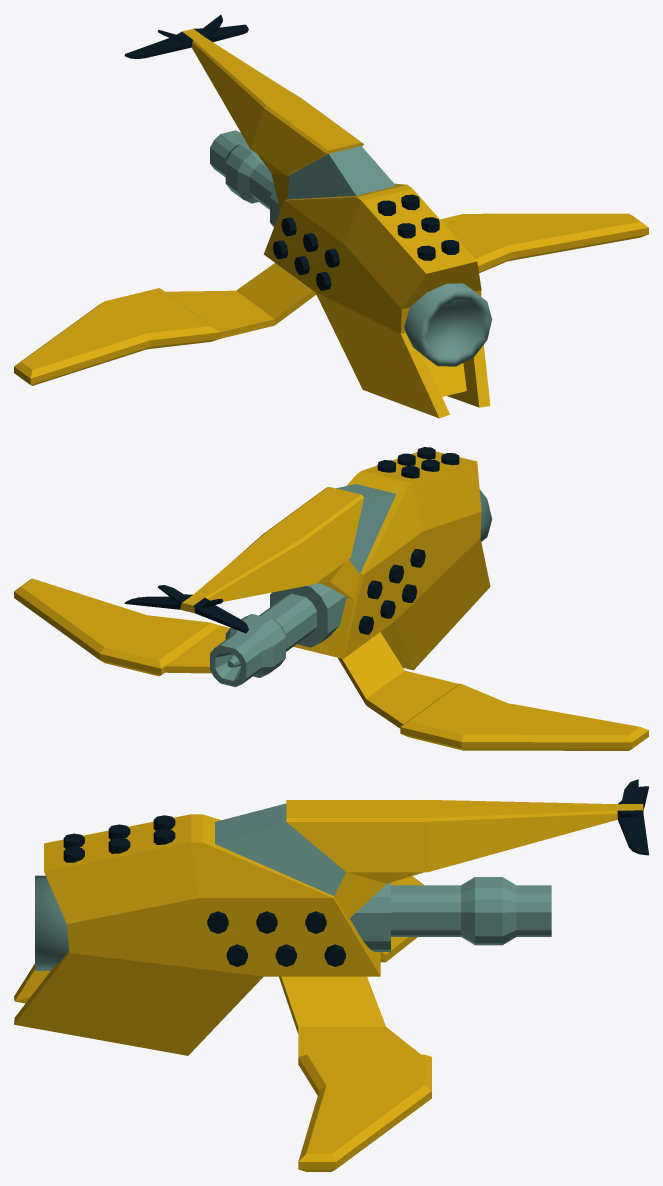
The model's file is Enemie_Ship_Minion_05.fbx.
3 views of the same model, one above another, from view 1: azimuth 30°, elevation 25°; view 2: azimuth 150°, elevation 25°; view 3: azimuth 270°, elevation 25° (orthographic). The views are drawn at different scales.
Parts seen in each view (by area): view 1: Enemie Ship Minion 05; view 2: Enemie Ship Minion 05; view 3: Enemie Ship Minion 05.
Part boxes in pixels (box(x1,y1,x2,y2)): Enemie Ship Minion 05: box(14, 15, 648, 418); Enemie Ship Minion 05: box(14, 447, 648, 750); Enemie Ship Minion 05: box(14, 779, 648, 1171).
Size of the model in its own units: 238 by 79.46 by 186.
